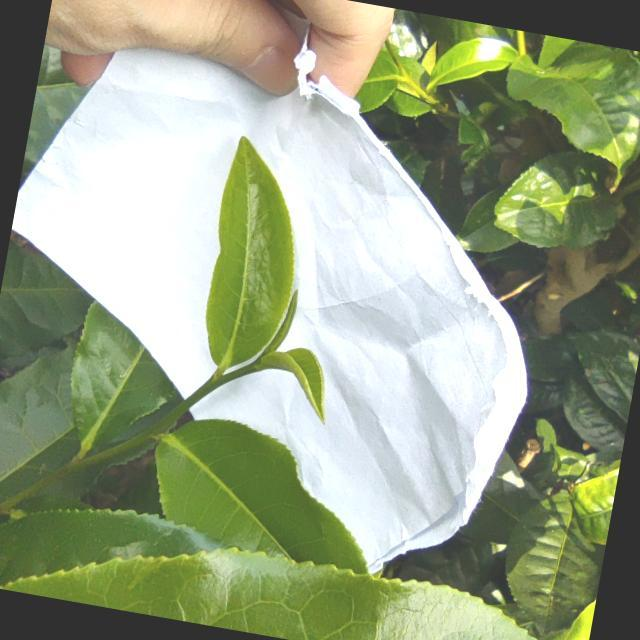Stem: (191, 378, 220, 402)
